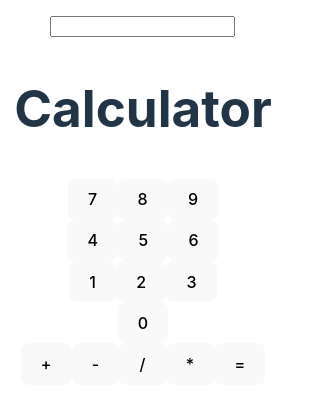
Test: calculator › Should calculate based in user input
Step 1. Click the button "1" → x=93, y=282, box [69,261,116,302]
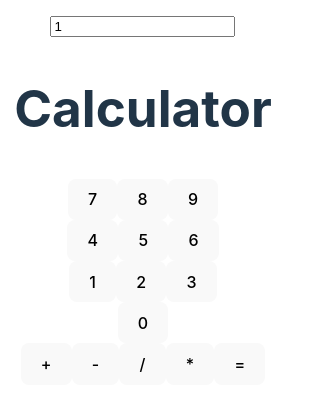
Step 2. Click the button "+" → x=46, y=364, box [20,343,72,385]
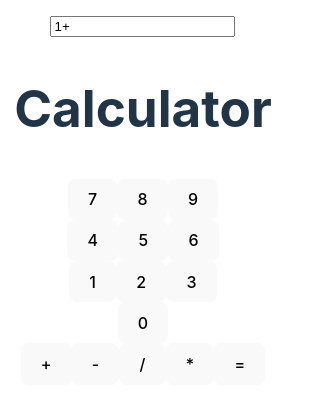
Step 3. Click the button "1" → x=93, y=282, box [69,261,116,302]
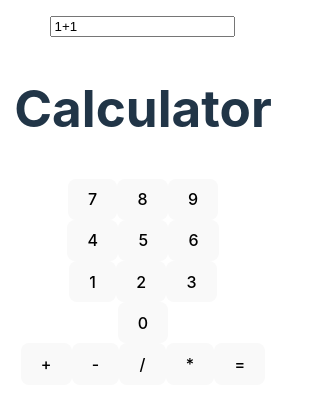
Step 4. Click the button "=" → x=240, y=364, box [214,343,266,385]
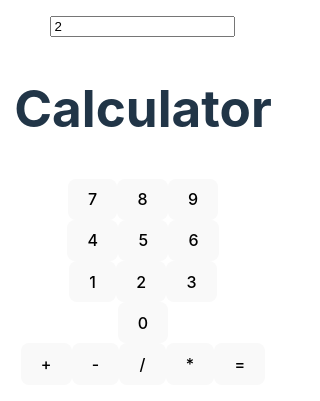
Expected: the field holds "2", [50,16,236,37]
